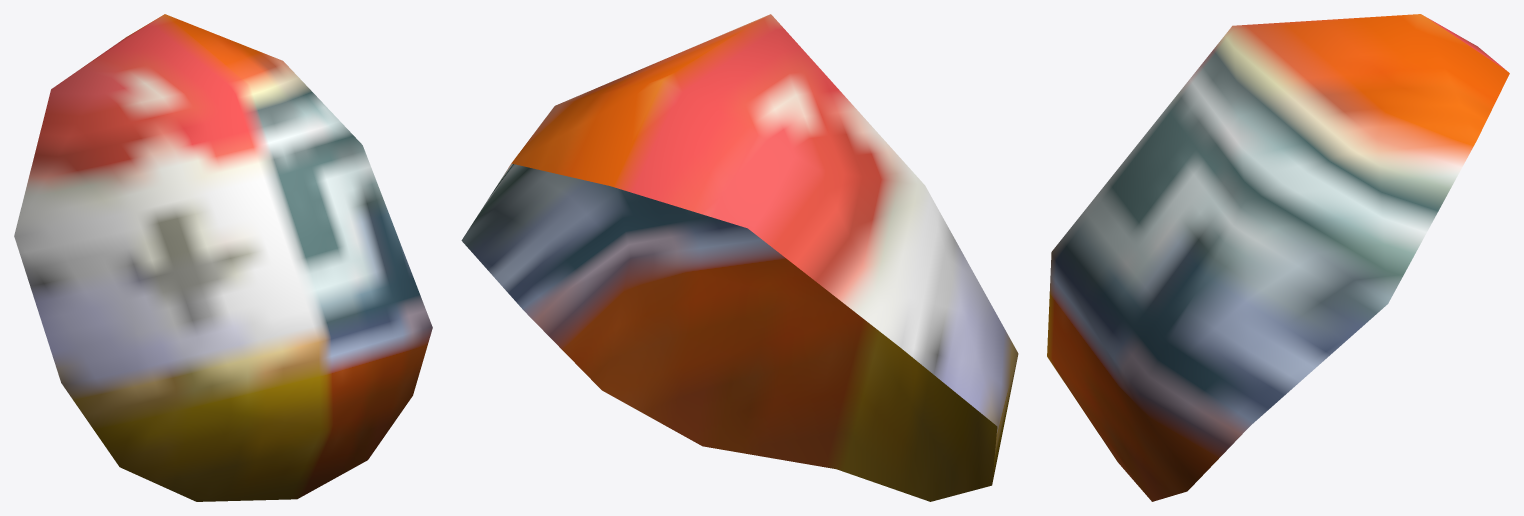
Rendered from fg_egg4_out.dae.
The picture shows the model from 3 angles, left to right: view 1: azimuth 30°, elevation 25°; view 2: azimuth 150°, elevation 25°; view 3: azimuth 270°, elevation 25°; orthographic projection. The views are drawn at different scales.
Visible parts, largest first — view 1: fg_egg4_out; view 2: fg_egg4_out; view 3: fg_egg4_out.
Part boxes in pixels (x1,y1,x2,y2): fg_egg4_out: (14,14,432,501); fg_egg4_out: (461,14,1018,501); fg_egg4_out: (1047,14,1509,501).
Bounding box in the file's own units: 11.35 × 11.86 × 11.11.
1 material, 1 textured.
